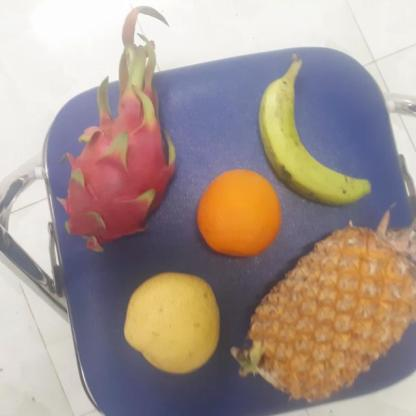banana: (261, 61, 362, 206)
orange: (193, 165, 284, 257)
pear: (122, 275, 224, 374)
pineapple: (250, 228, 416, 404)
pitaya: (50, 82, 181, 248)
